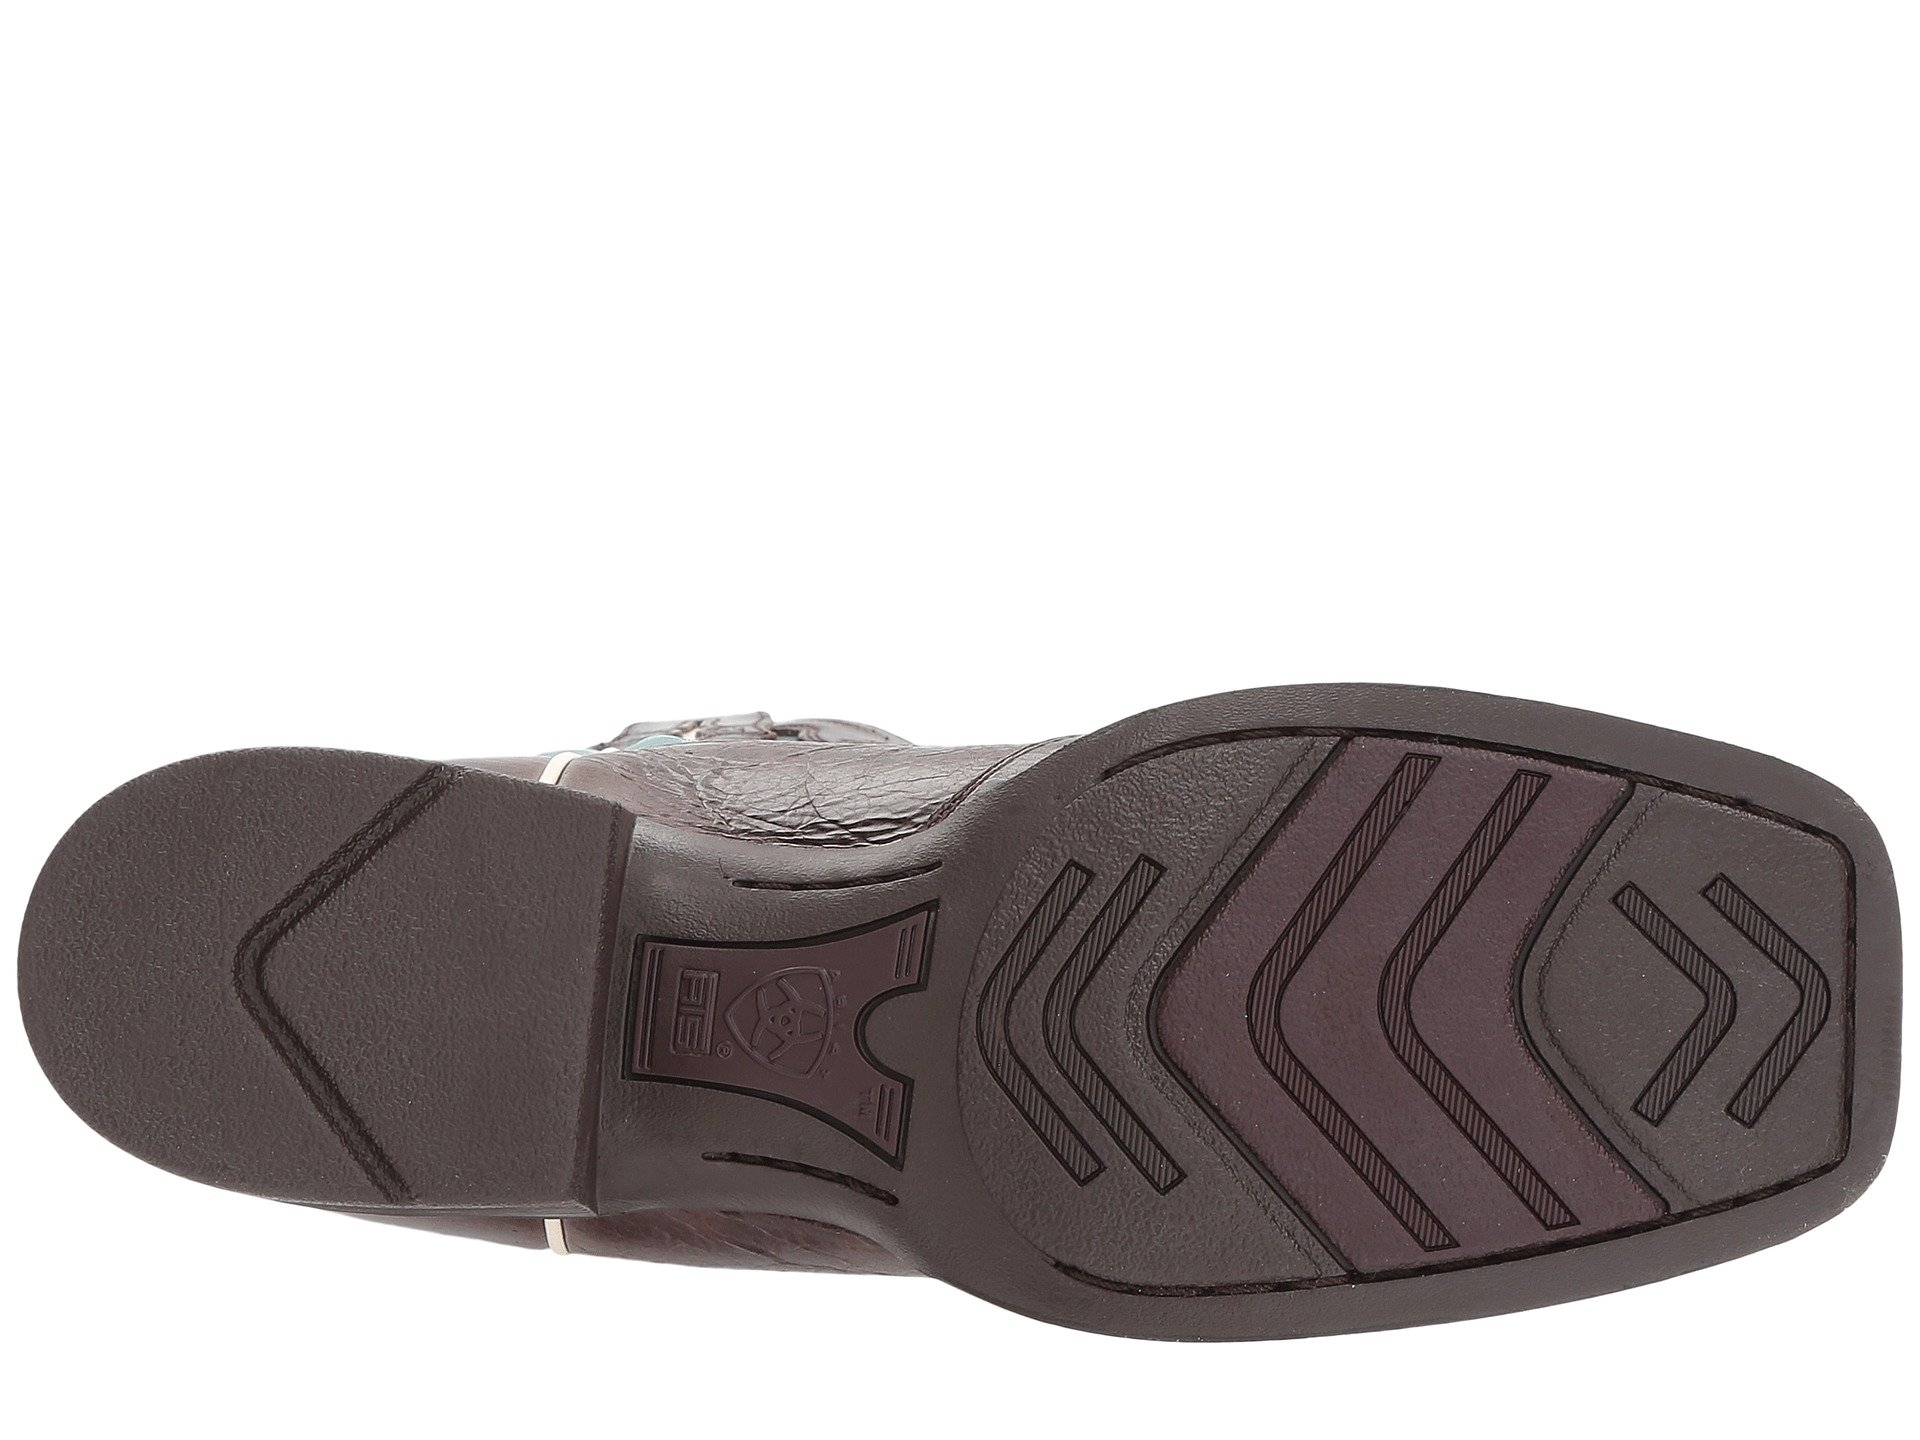chevron: (1253, 718, 1814, 1213), (184, 880, 460, 1110)
